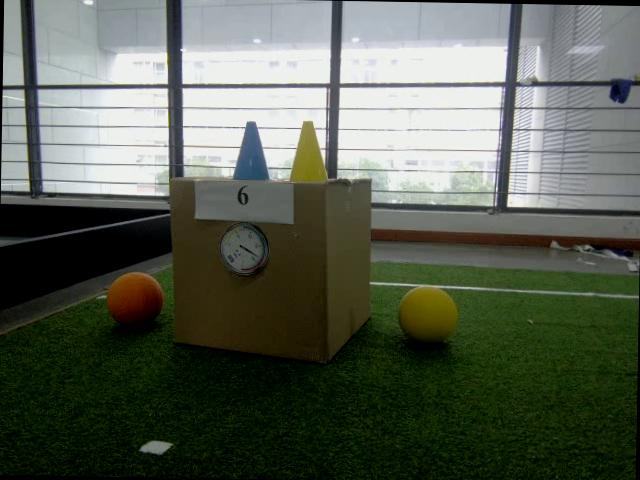6: (236, 184, 250, 206)
Dashboard: (220, 220, 272, 276)
blue_barrel: (232, 118, 272, 180)
orange_ball: (104, 270, 166, 326)
ssi: (226, 254, 236, 264)
yellow_ball: (400, 286, 458, 342)
yellow_barrel: (290, 120, 330, 184)
